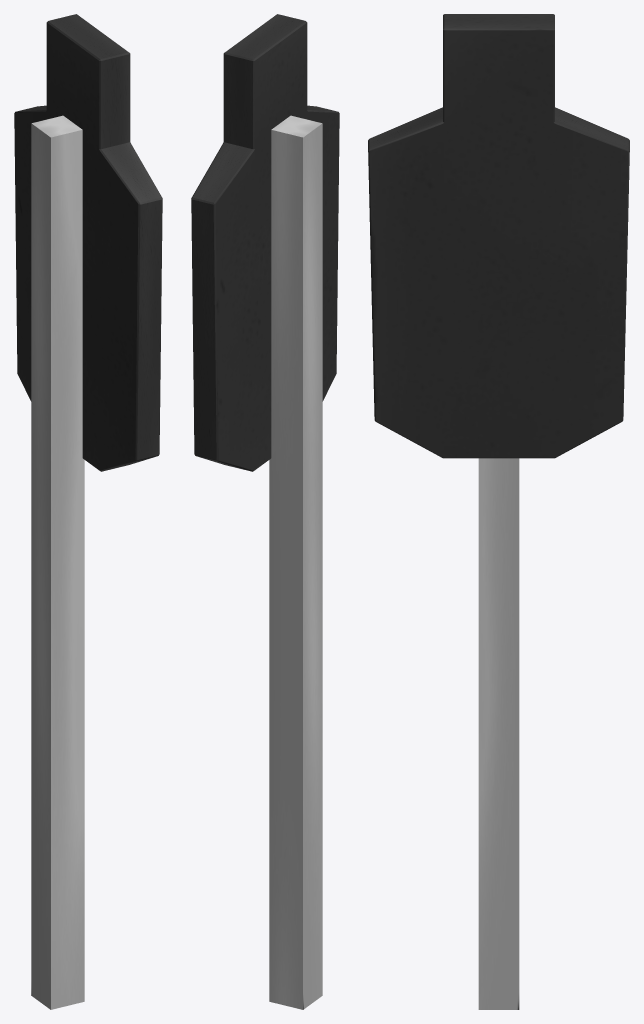
The model's file is Steel Target.fbx.
3 renders of one model, left to right at view 1: azimuth 30°, elevation 25°; view 2: azimuth 150°, elevation 25°; view 3: azimuth 270°, elevation 25°, orthographic. The views are drawn at different scales.
Visible parts, largest first — view 1: Steel_pole_1, Steel_Target; view 2: Steel_pole_1, Steel_Target; view 3: Steel_Target, Steel_pole_1.
Boxes of the visible parts, bbox=[...] form: Steel_pole_1: bbox=[31, 115, 84, 1009]; Steel_Target: bbox=[14, 14, 162, 471]; Steel_pole_1: bbox=[269, 115, 322, 1009]; Steel_Target: bbox=[191, 14, 339, 471]; Steel_Target: bbox=[368, 14, 629, 458]; Steel_pole_1: bbox=[478, 458, 519, 1009].
Bounding box in the file's own units: 0.5599 × 8.12 × 1.93.
